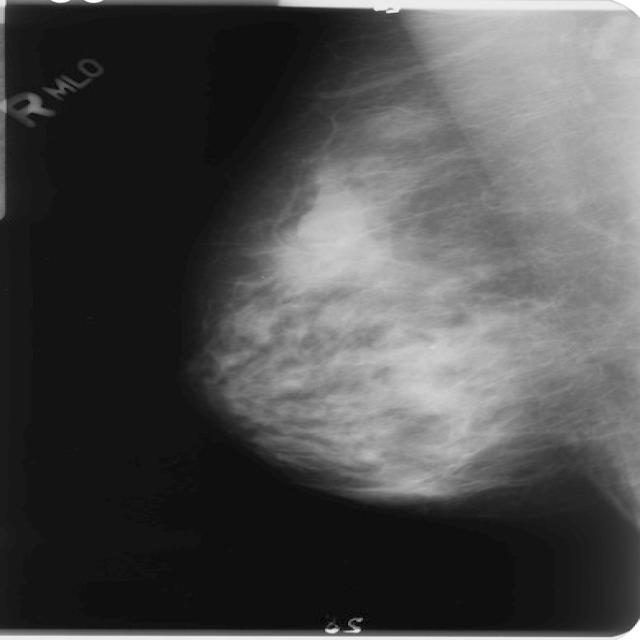tumour: (292, 187, 371, 243)
